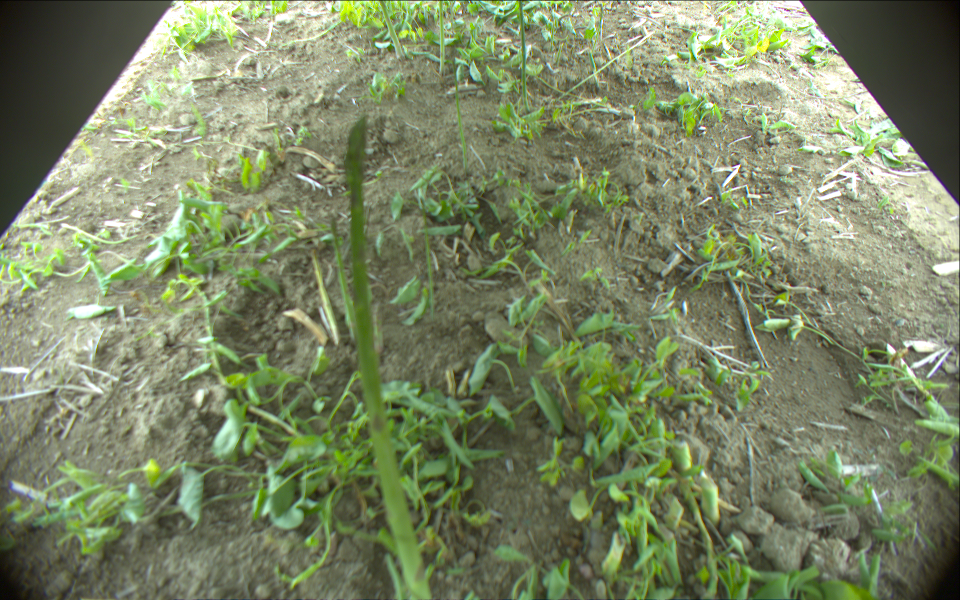aspa: (347, 114, 432, 599), (329, 214, 357, 341), (307, 249, 338, 348), (517, 1, 531, 113), (379, 1, 404, 58), (455, 71, 468, 169), (372, 296, 384, 353), (437, 1, 443, 72)
